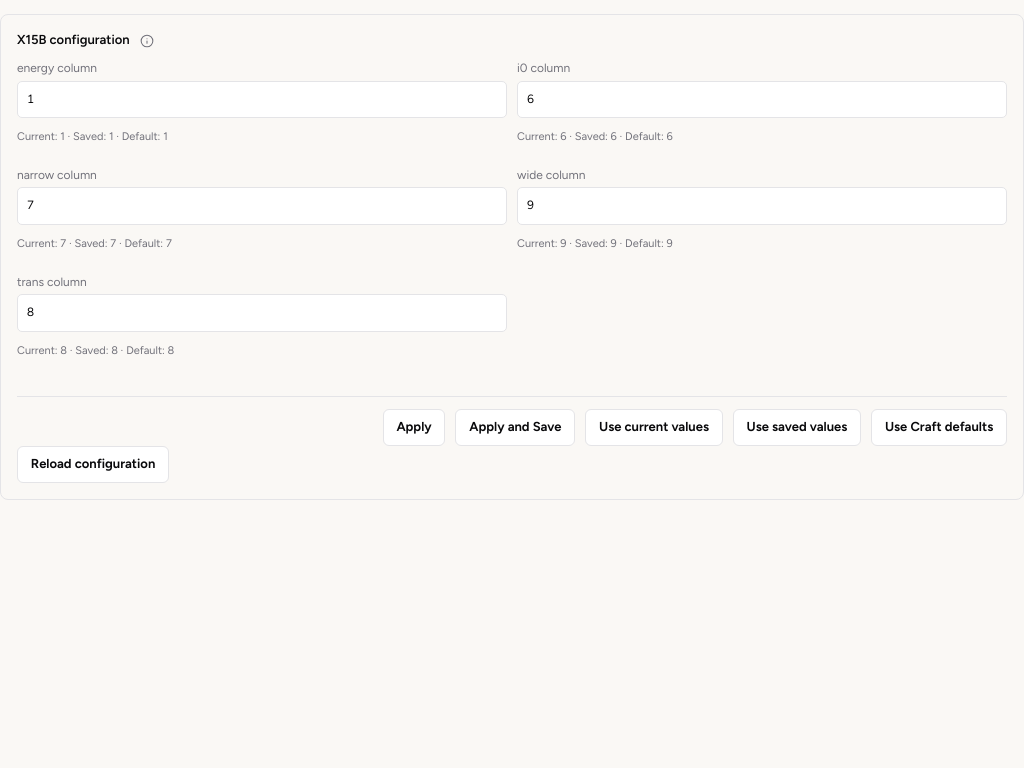
Scenario: blocks invalid binary source column  before applying
Clear the number field labelled "i0 column". click: [762, 99]
box: [517, 81, 1007, 118]
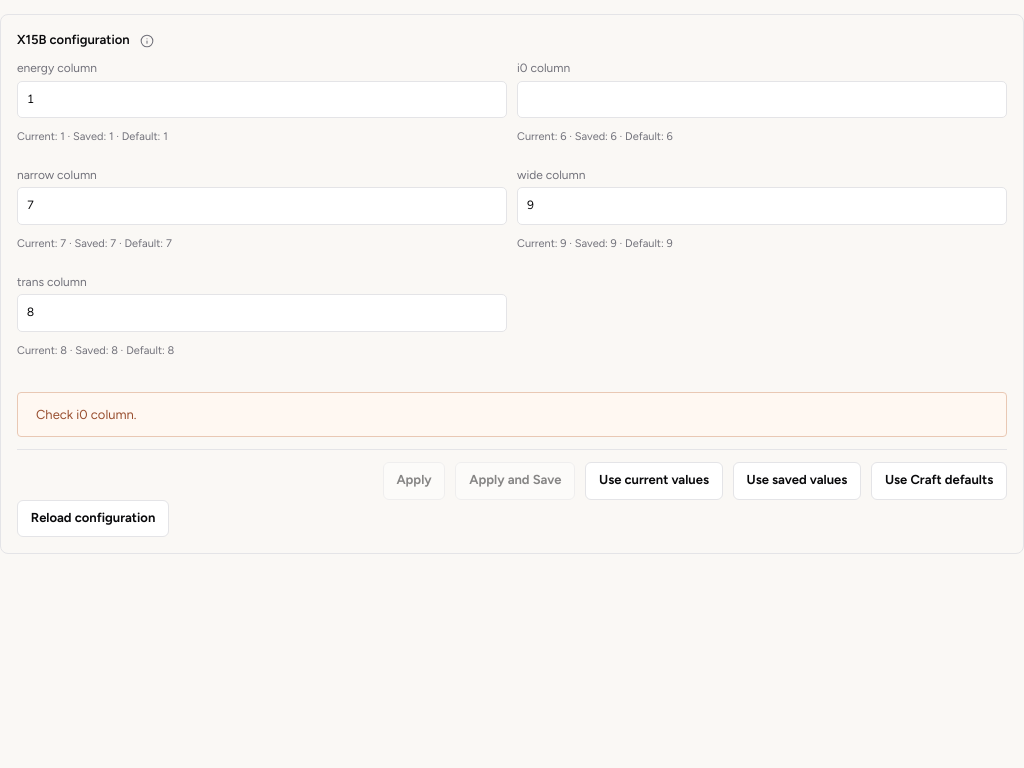
Expected: the message shows "Check i0 column", [36, 407, 136, 422]
Expected: the button "Apply" is disabled, [383, 462, 446, 500]
Expected: the button "Apply and Save" is disabled, [456, 462, 575, 500]
